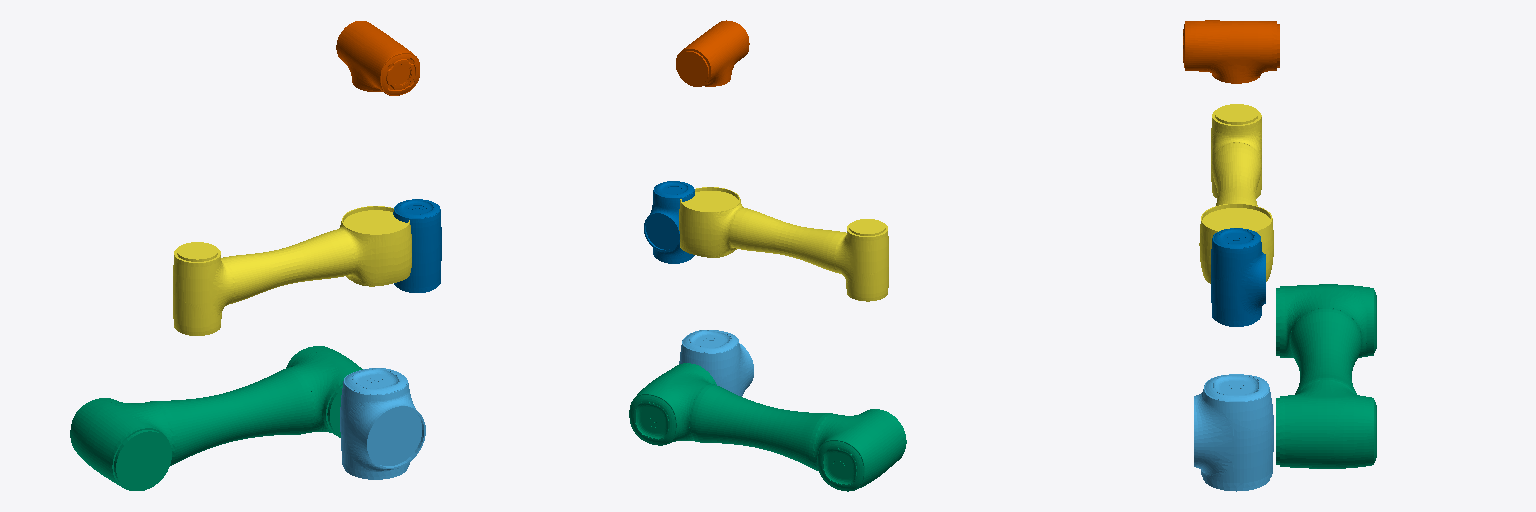
robot.urdf — panda:
<?xml version="1.0" ?>
<!-- =================================================================================== -->
<!-- |    This document was autogenerated by xacro from /opt/ros/kinetic/share/moveit_resources/panda_description/urdf/panda.urdf | -->
<!-- |    EDITING THIS FILE BY HAND IS NOT RECOMMENDED                                 | -->
<!-- =================================================================================== -->
<robot name="panda" xmlns:xacro="http://www.ros.org/wiki/xacro">
    
    <link name="panda_link0">
        <visual>
            <geometry>
                <mesh filename="meshes/visual/link0.stl" />
            </geometry>
        </visual>
        <collision>
            <geometry>
                <mesh filename="meshes/collision/link0.stl" />
            </geometry>
        </collision>
    </link>
    <!--  -->
    <joint name="panda_joint1" type="revolute">
        <safety_controller k_position="100.0" k_velocity="40.0" soft_lower_limit="-2.8973" soft_upper_limit="2.8973" />
        <origin rpy="0 0 0" xyz="0 0 0.333" />
        <parent link="panda_link0" />
        <child link="panda_link1" />
        <axis xyz="0 0 1" />
        <limit effort="87" lower="-2.9671" upper="2.9671" velocity="2.3925" />
    </joint>
    <!--  -->
    <link name="panda_link1">
        <visual>
            <geometry>
                <mesh filename="meshes/visual/link1.stl" />
            </geometry>
        </visual>
        <collision>
            <geometry>
                <mesh filename="meshes/collision/link1.stl" />
            </geometry>
        </collision>
    </link>
    <joint name="panda_joint2" type="revolute">
        <safety_controller k_position="100.0" k_velocity="40.0" soft_lower_limit="-1.7628" soft_upper_limit="1.7628" />
        <origin rpy="-1.57079632679 0 0" xyz="0 0 0" />
        <parent link="panda_link1" />
        <child link="panda_link2" />
        <axis xyz="0 0 1" />
        <limit effort="87" lower="-1.8326" upper="1.8326" velocity="2.3925" />
    </joint>
    <link name="panda_link2">
        <visual>
            <geometry>
                <mesh filename="meshes/visual/link2.stl" />
            </geometry>
        </visual>
        <collision>
            <geometry>
                <mesh filename="meshes/collision/link2.stl" />
            </geometry>
        </collision>
    </link>
    <joint name="panda_joint3" type="revolute">
        <safety_controller k_position="100.0" k_velocity="40.0" soft_lower_limit="-2.8973" soft_upper_limit="2.8973" />
        <origin rpy="1.57079632679 0 0" xyz="0 -0.316 0" />
        <parent link="panda_link2" />
        <child link="panda_link3" />
        <axis xyz="0 0 1" />
        <limit effort="87" lower="-2.9671" upper="2.9671" velocity="2.3925" />
    </joint>
    <link name="panda_link3">
        <visual>
            <geometry>
                <mesh filename="meshes/visual/link3.stl" />
            </geometry>
        </visual>
        <collision>
            <geometry>
                <mesh filename="meshes/collision/link3.stl" />
            </geometry>
        </collision>
    </link>
    <joint name="panda_joint4" type="revolute">
        <safety_controller k_position="100.0" k_velocity="40.0" soft_lower_limit="-3.0718" soft_upper_limit="0.0175" />
        <origin rpy="1.57079632679 0 0" xyz="0.0825 0 0" />
        <parent link="panda_link3" />
        <child link="panda_link4" />
        <axis xyz="0 0 1" />
        <limit effort="87" lower="-3.1416" upper="0.0873" velocity="2.3925" />
    </joint>

    <link name="panda_link4">
        <visual>
            <geometry>
                <mesh filename="meshes/visual/link4.stl" />
            </geometry>
        </visual>
        <collision>
            <geometry>
                <mesh filename="meshes/collision/link4.stl" />
            </geometry>
        </collision>
    </link>
    <joint name="panda_joint5" type="revolute">
        <safety_controller k_position="100.0" k_velocity="40.0" soft_lower_limit="-2.8973" soft_upper_limit="2.8973" />
        <origin rpy="-1.57079632679 0 0" xyz="-0.0825 0.384 0" />
        <parent link="panda_link4" />
        <child link="panda_link5" />
        <axis xyz="0 0 1" />
        <limit effort="12" lower="-2.9671" upper="2.9671" velocity="2.8710" />
    </joint>

    <link name="panda_link5">
        <visual>
            <geometry>
                <mesh filename="meshes/visual/link5.stl" />
            </geometry>
        </visual>
        <collision>
            <geometry>
                <mesh filename="meshes/collision/link5.stl" />
            </geometry>
        </collision>
    </link>
    <joint name="panda_joint6" type="revolute">
        <safety_controller k_position="100.0" k_velocity="40.0" soft_lower_limit="-0.0175" soft_upper_limit="3.7525" />
        <origin rpy="1.57079632679 0 0" xyz="0 0 0" />
        <parent link="panda_link5" />
        <child link="panda_link6" />
        <axis xyz="0 0 1" />
        <limit effort="12" lower="-0.0873" upper="3.8223" velocity="2.8710" />
    </joint>

    <link name="panda_link6">
        <visual>
            <geometry>
                <mesh filename="meshes/visual/link6.stl" />
            </geometry>
        </visual>
        <collision>
            <geometry>
                <mesh filename="meshes/collision/link6.stl" />
            </geometry>
        </collision>
    </link>
    <joint name="panda_joint7" type="revolute">
        <safety_controller k_position="100.0" k_velocity="40.0" soft_lower_limit="-2.8973" soft_upper_limit="2.8973" />
        <origin rpy="1.57079632679 0 0" xyz="0.088 0 0" />
        <parent link="panda_link6" />
        <child link="panda_link7" />
        <axis xyz="0 0 1" />
        <limit effort="12" lower="-2.9671" upper="2.9671" velocity="2.8710" />
    </joint>
    <link name="panda_link7">
        <visual>
            <geometry>
                <mesh filename="meshes/visual/link7.stl" />
            </geometry>
        </visual>
        <collision>
            <geometry>
                <mesh filename="meshes/collision/link7.stl" />
            </geometry>
        </collision>
    </link>
    <joint name="panda_joint8" type="fixed">
        <origin rpy="0 0 0" xyz="0 0 0.107" />
        <parent link="panda_link7" />
        <child link="panda_link8" />
        <axis xyz="0 0 0" />
    </joint>
    <link name="panda_link8" />
    <joint name="panda_hand_joint" type="fixed">
        <parent link="panda_link8" />
        <child link="panda_hand" />
        <origin rpy="0 0 -0.785398163397" xyz="0 0 0" />
    </joint>
    <link name="panda_hand">
        <visual>
            <geometry>
                <mesh filename="meshes/visual/hand.stl" />
            </geometry>
        </visual>
        <collision>
            <geometry>
                <mesh filename="meshes/collision/hand.stl" />
            </geometry>
        </collision>
    </link>
    <link name="panda_leftfinger">
        <visual>
            <geometry>
                <mesh filename="meshes/visual/finger.stl" />
            </geometry>
        </visual>
        <collision>
            <geometry>
                <mesh filename="meshes/collision/finger.stl" />
            </geometry>
        </collision>
    </link>
    <link name="panda_rightfinger">
        <visual>
            <origin rpy="0 0 3.14159265359" xyz="0 0 0" />
            <geometry>
                <mesh filename="meshes/visual/finger.stl" />
            </geometry>
        </visual>
        <collision>
            <origin rpy="0 0 3.14159265359" xyz="0 0 0" />
            <geometry>
                <mesh filename="meshes/collision/finger.stl" />
            </geometry>
        </collision>
    </link>
    <joint name="panda_finger_joint1" type="fixed">
        <parent link="panda_hand" />
        <child link="panda_leftfinger" />
        <origin rpy="0 0 0" xyz="0 0 0.0584" />
        <axis xyz="0 1 0" />
        <limit effort="20" lower="0.0" upper="0.04" velocity="0.2" />
    </joint>
    <joint name="panda_finger_joint2" type="fixed">
        <parent link="panda_hand" />
        <child link="panda_rightfinger" />
        <origin rpy="0 0 0" xyz="0 0 0.0584" />
        <axis xyz="0 -1 0" />
        <limit effort="20" lower="0.0" upper="0.04" velocity="0.2" />
        <!-- NOTE: For some reason this 'mimic' messes up klampts `configFromDrivers()` function. Leave commented out -->
        <!-- <mimic joint="panda_finger_joint1" /> -->
    </joint>
</robot>

--- What the picture shows (computed from the rendered views, not written in the file) ---
3 views of the same robot in one strip: view 1: azimuth 30°, elevation 25°; view 2: azimuth 150°, elevation 25°; view 3: azimuth 270°, elevation 25° (orthographic).
Robot: panda — 12 links, 11 joints (7 revolute, 4 fixed); root link panda_link0; default pose: every joint at zero.
Visible links, largest first — view 1: panda_link2, panda_link3, panda_link1, panda_link5, panda_link4; view 2: panda_link2, panda_link3, panda_link5, panda_link1, panda_link4; view 3: panda_link2, panda_link1, panda_link3, panda_link5, panda_link4.
Link boxes in pixels (left/top/right/bottom): panda_link2: left=70, top=346, right=362, bottom=490; panda_link3: left=173, top=206, right=411, bottom=335; panda_link1: left=340, top=368, right=425, bottom=479; panda_link5: left=336, top=21, right=419, bottom=95; panda_link4: left=393, top=199, right=441, bottom=292; panda_link2: left=629, top=363, right=906, bottom=491; panda_link3: left=679, top=187, right=888, bottom=301; panda_link5: left=676, top=20, right=749, bottom=86; panda_link1: left=679, top=330, right=753, bottom=396; panda_link4: left=644, top=181, right=694, bottom=263; panda_link2: left=1276, top=284, right=1376, bottom=468; panda_link1: left=1194, top=374, right=1273, bottom=491; panda_link3: left=1199, top=104, right=1273, bottom=283; panda_link5: left=1183, top=20, right=1279, bottom=83; panda_link4: left=1211, top=228, right=1265, bottom=326.
Bounding box of the posed robot: 0.6134 × 0.3185 × 0.8254 m (x, y, z).
Meshes: 10 distinct files referenced, 6 mesh visuals loaded (6 binary STL); not drawn: 5 (reference not matched to a file when rendering).
